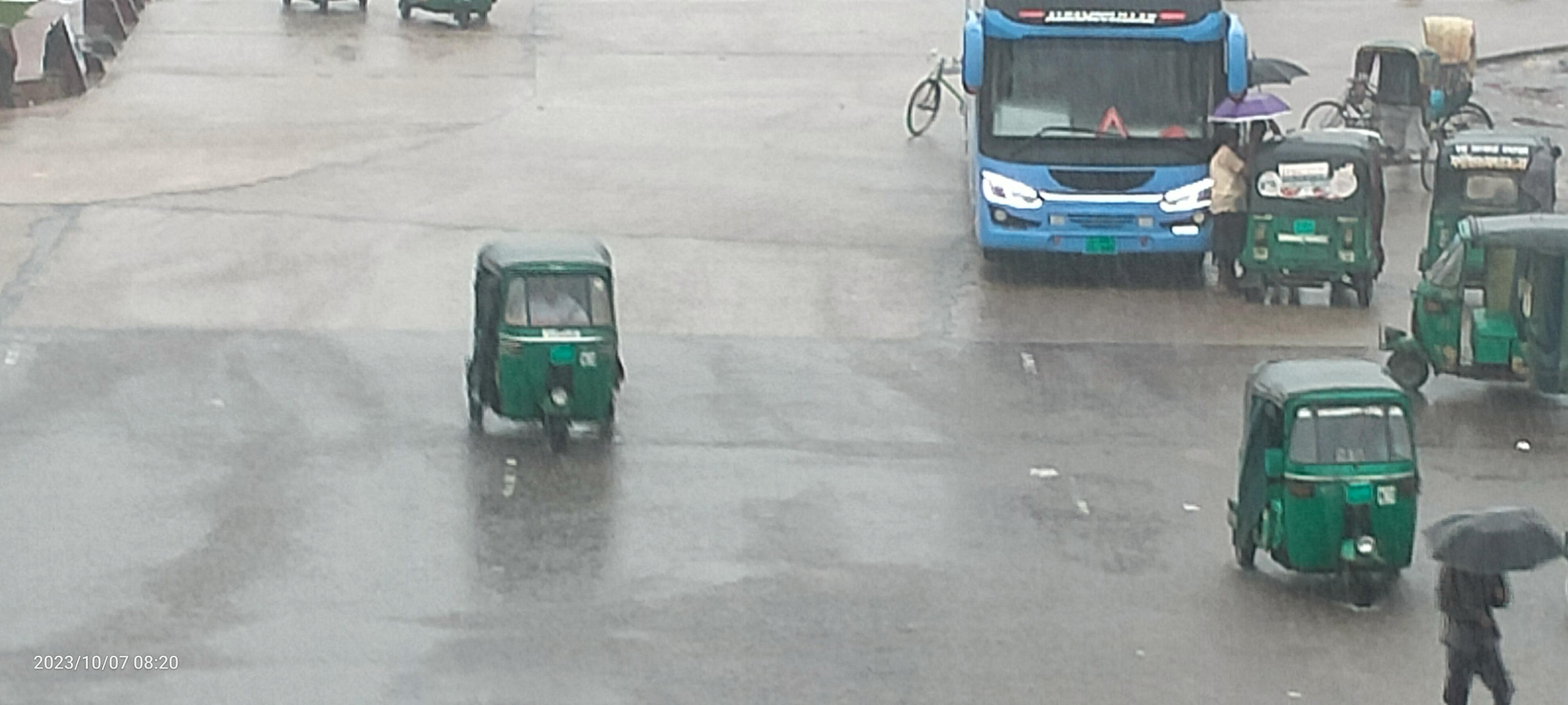Bus: (931, 0, 1267, 304)
Car: (1295, 42, 1432, 177), (1410, 0, 1516, 146)
